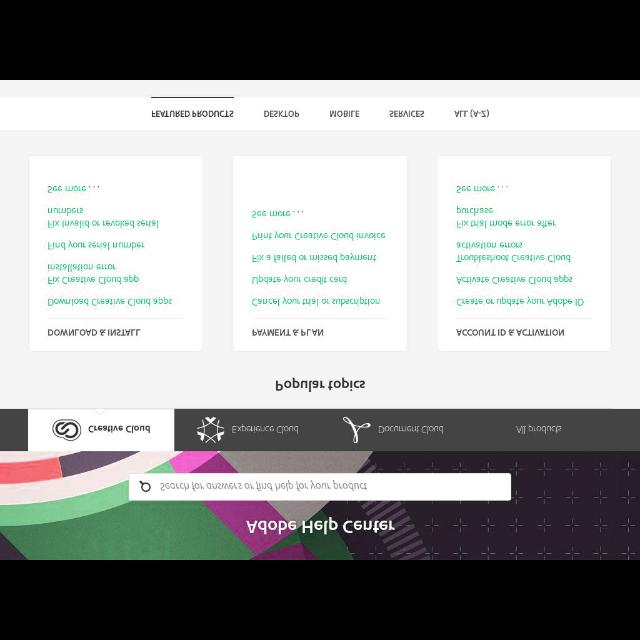icon: (138, 480, 150, 492)
image: (342, 416, 371, 444), (52, 416, 82, 442), (196, 416, 226, 442)
input: (130, 473, 510, 501)
multitab: (1, 410, 639, 450), (1, 97, 639, 131)
text: (455, 240, 573, 264), (456, 204, 558, 230), (46, 207, 160, 229), (160, 479, 368, 491), (245, 518, 395, 534), (48, 262, 138, 286), (457, 295, 585, 307), (48, 295, 174, 307), (252, 252, 378, 264), (252, 230, 386, 240), (456, 325, 566, 337), (275, 377, 365, 391), (46, 238, 146, 250), (456, 274, 574, 284), (252, 298, 382, 306), (252, 274, 348, 284), (252, 325, 326, 337), (230, 423, 300, 435), (151, 109, 233, 119), (48, 328, 142, 336), (378, 424, 446, 434), (46, 182, 100, 194), (457, 182, 511, 194), (88, 423, 150, 433), (250, 209, 306, 219), (516, 424, 562, 434), (264, 110, 300, 118), (389, 110, 425, 118), (454, 109, 490, 117), (330, 110, 360, 118)
